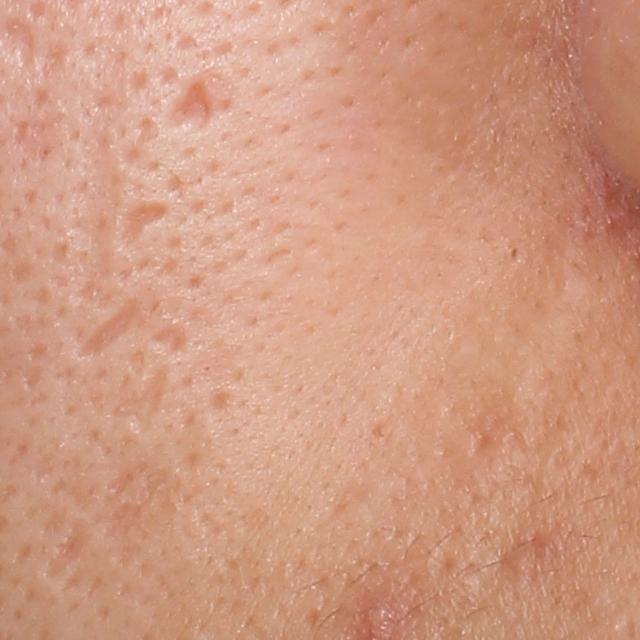atrophic_scar: (69, 294, 143, 363), (120, 365, 171, 430), (40, 521, 85, 584), (163, 76, 212, 131), (4, 15, 43, 81), (121, 198, 172, 248), (149, 321, 198, 363), (42, 39, 74, 76)
papule: (502, 545, 538, 576)
